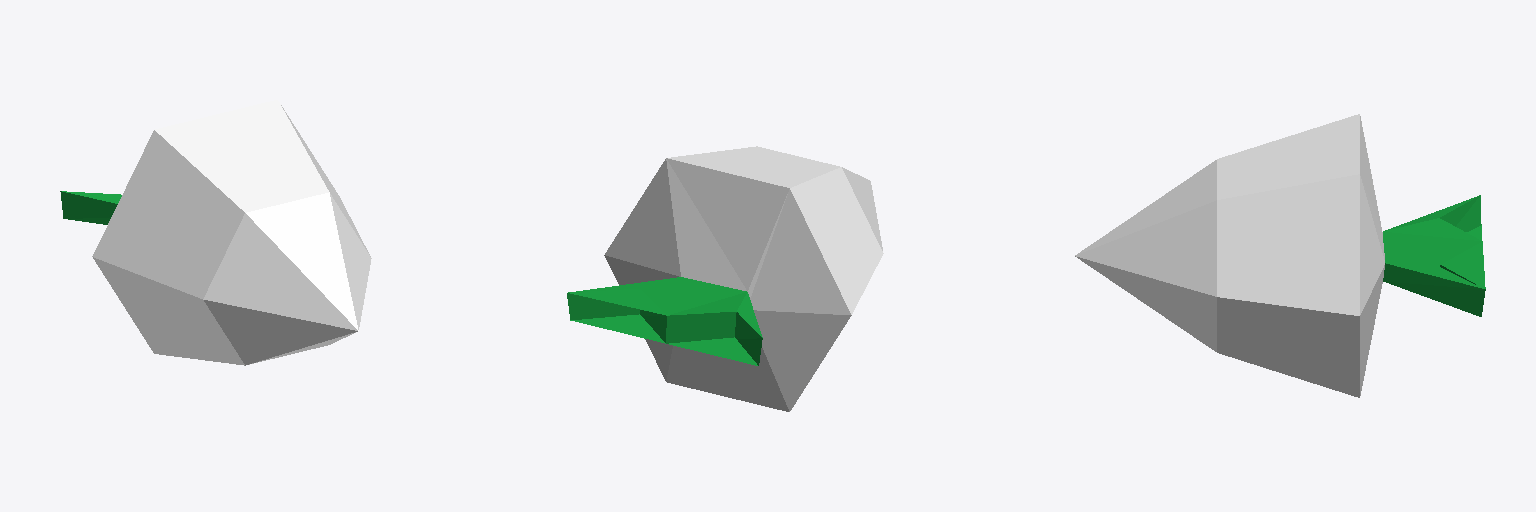
The picture shows the model from 3 angles: view 1: azimuth 30°, elevation 25°; view 2: azimuth 150°, elevation 25°; view 3: azimuth 270°, elevation 25°; orthographic projection.
Parts seen in each view (by area): view 1: CarrotBulletModel; view 2: CarrotBulletModel; view 3: CarrotBulletModel.
Part boxes in pixels (x1,y1,x2,y2): CarrotBulletModel: (60, 100, 371, 365); CarrotBulletModel: (567, 146, 883, 411); CarrotBulletModel: (1075, 114, 1485, 397).
Bounding box in the file's own units: 0.3 × 0.2598 × 0.4319.
Materials: 1 (1 with a texture image).